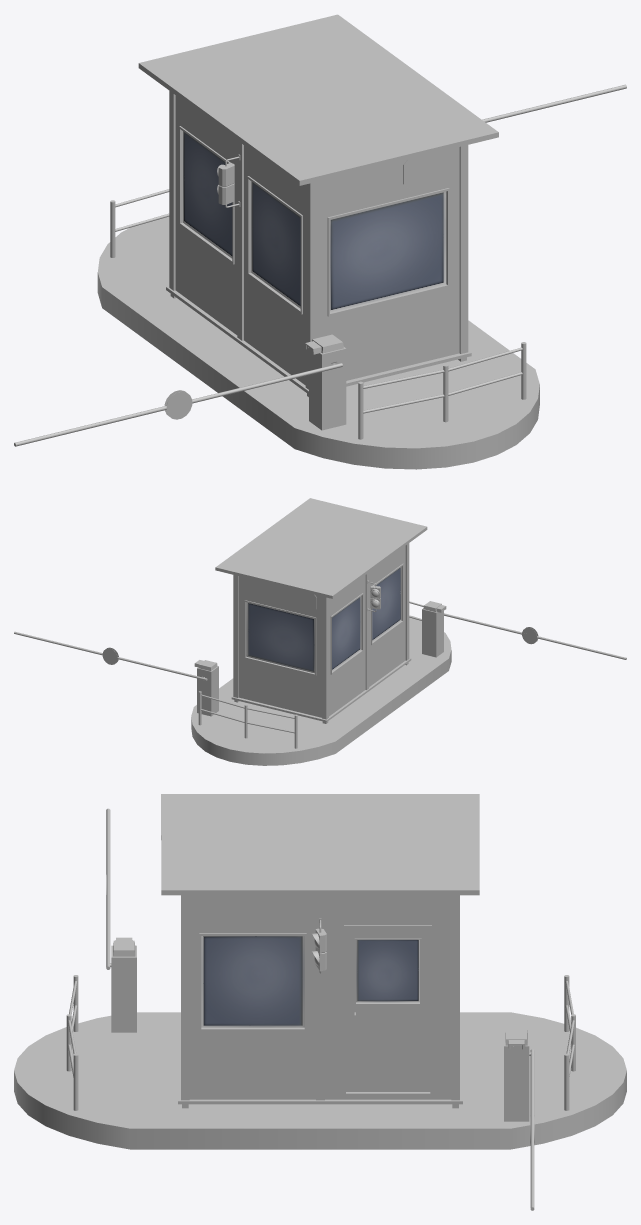
The model's file is security_guard.fbx.
3 renders of one model, top to bottom at view 1: azimuth 30°, elevation 25°; view 2: azimuth 150°, elevation 25°; view 3: azimuth 270°, elevation 25°, orthographic. The views are drawn at different scales.
Visible parts, largest first — view 1: guard building, stand, glasses, gate_1, barrier_2, gate_open_part_1, metallic_sign_stop_1, traffic light_2, barrier_1, gate_open_part_2; view 2: guard building, stand, glasses, gate_1, gate_2, barrier_1, gate_open_part_2, gate_open_part_1, metallic_sign_stop_2; view 3: guard building, stand, glasses, gate_1, gate_2, barrier_2, barrier_1, gate_open_part_2, gate_open_part_1.
Boxes of the visible parts, box(x1,y1,x2,y2) form: guard building: box(138, 14, 498, 396); stand: box(97, 216, 539, 469); glasses: box(183, 131, 446, 312); gate_1: box(305, 334, 346, 430); barrier_2: box(358, 342, 526, 439); gate_open_part_1: box(14, 363, 342, 446); metallic_sign_stop_1: box(403, 151, 447, 194); traffic light_2: box(217, 154, 240, 207); barrier_1: box(110, 189, 169, 257); gate_open_part_2: box(482, 84, 626, 122); guard building: box(215, 498, 427, 723); stand: box(191, 615, 451, 765); glasses: box(246, 567, 401, 673); gate_1: box(422, 601, 446, 657); gate_2: box(194, 660, 218, 716); barrier_1: box(198, 691, 297, 748); gate_open_part_2: box(14, 631, 207, 680); gate_open_part_1: box(444, 613, 626, 659); metallic_sign_stop_2: box(291, 589, 316, 614); guard building: box(161, 794, 479, 1108); stand: box(14, 1012, 626, 1149); glasses: box(201, 936, 419, 1027); gate_1: box(111, 937, 136, 1032); gate_2: box(504, 1029, 529, 1121); barrier_2: box(66, 975, 78, 1110); barrier_1: box(564, 975, 575, 1110); gate_open_part_2: box(529, 1049, 534, 1210); gate_open_part_1: box(106, 808, 111, 969).
Size of the model in its own units: 1001 by 292 by 650.
